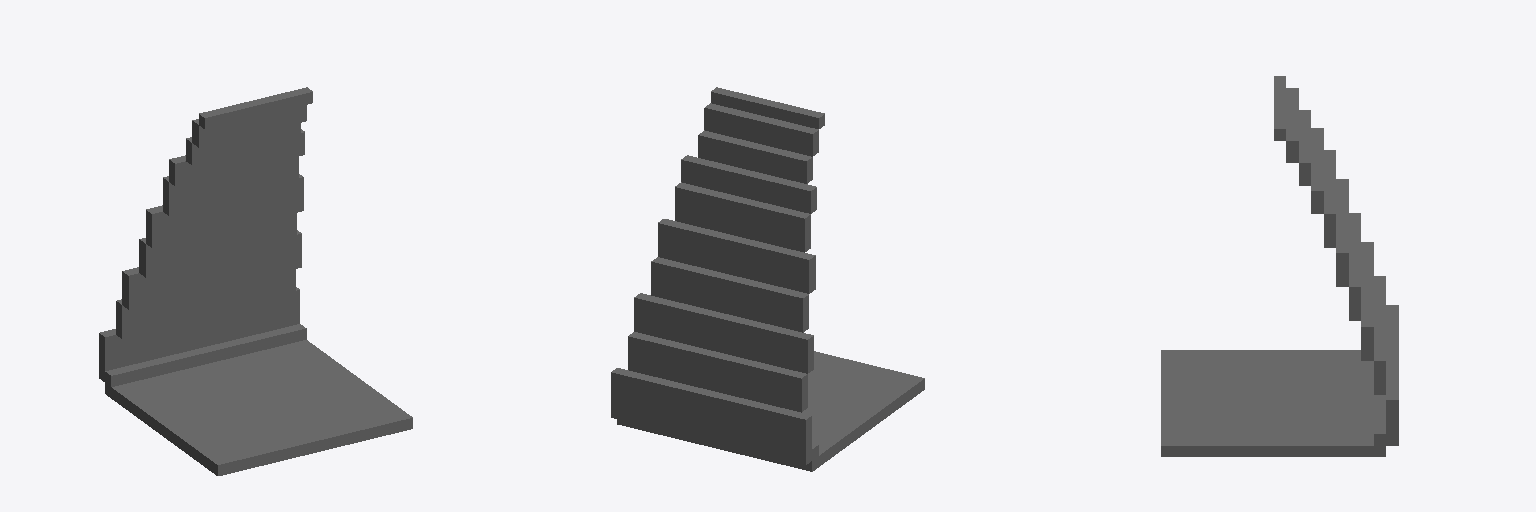
3 renders of one model, left to right at view 1: azimuth 30°, elevation 25°; view 2: azimuth 150°, elevation 25°; view 3: azimuth 270°, elevation 25°, orthographic.
Bounding box in the file's own units: 18 × 27 × 19.
Materials: 1 (1 with a texture image).